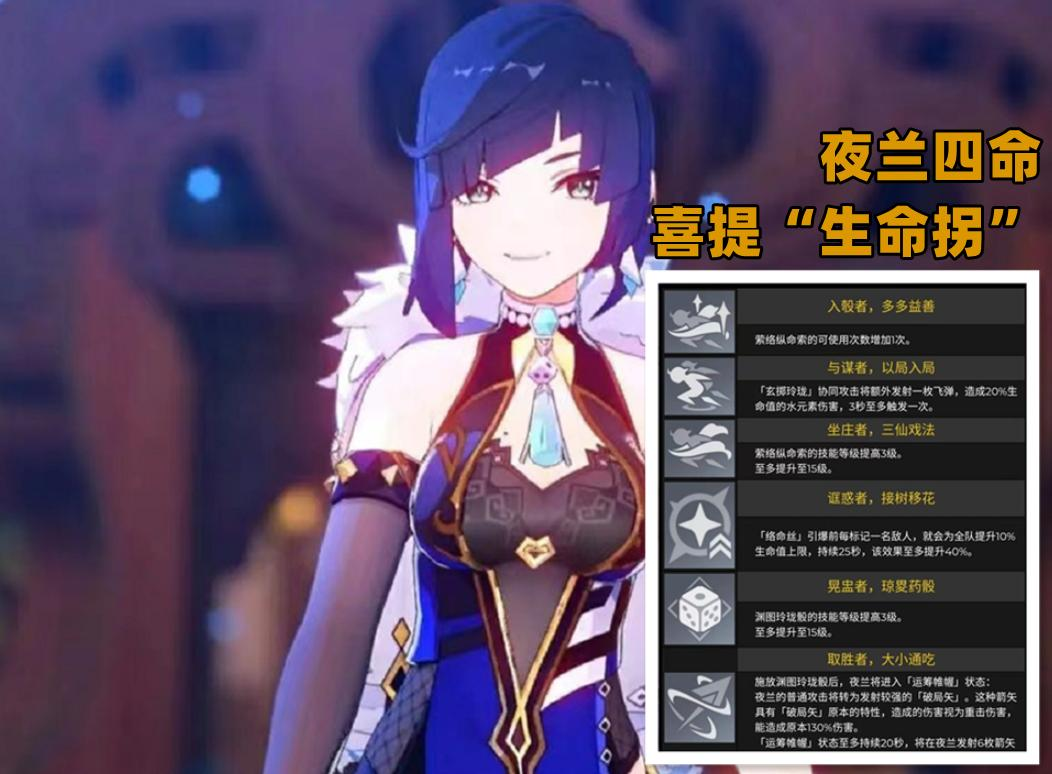夜兰: (274, 5, 670, 772)
